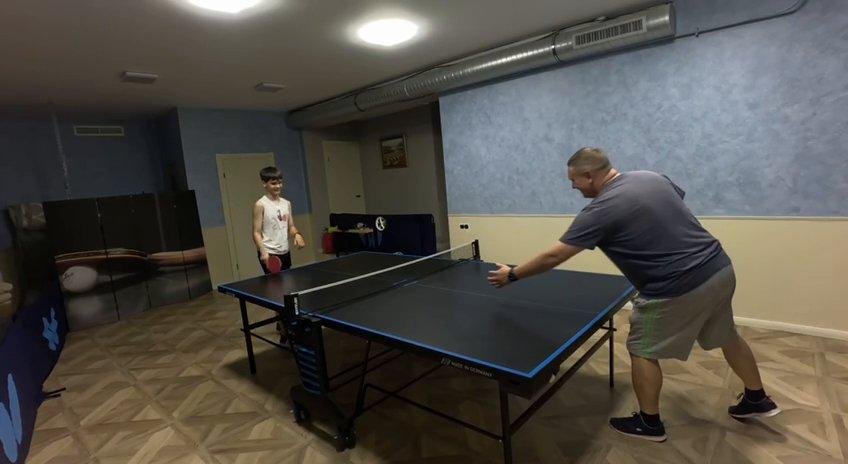Net: (283, 241, 481, 324)
Player1: (252, 167, 304, 272)
Player2: (560, 148, 776, 435)
Table: (221, 253, 632, 376)
